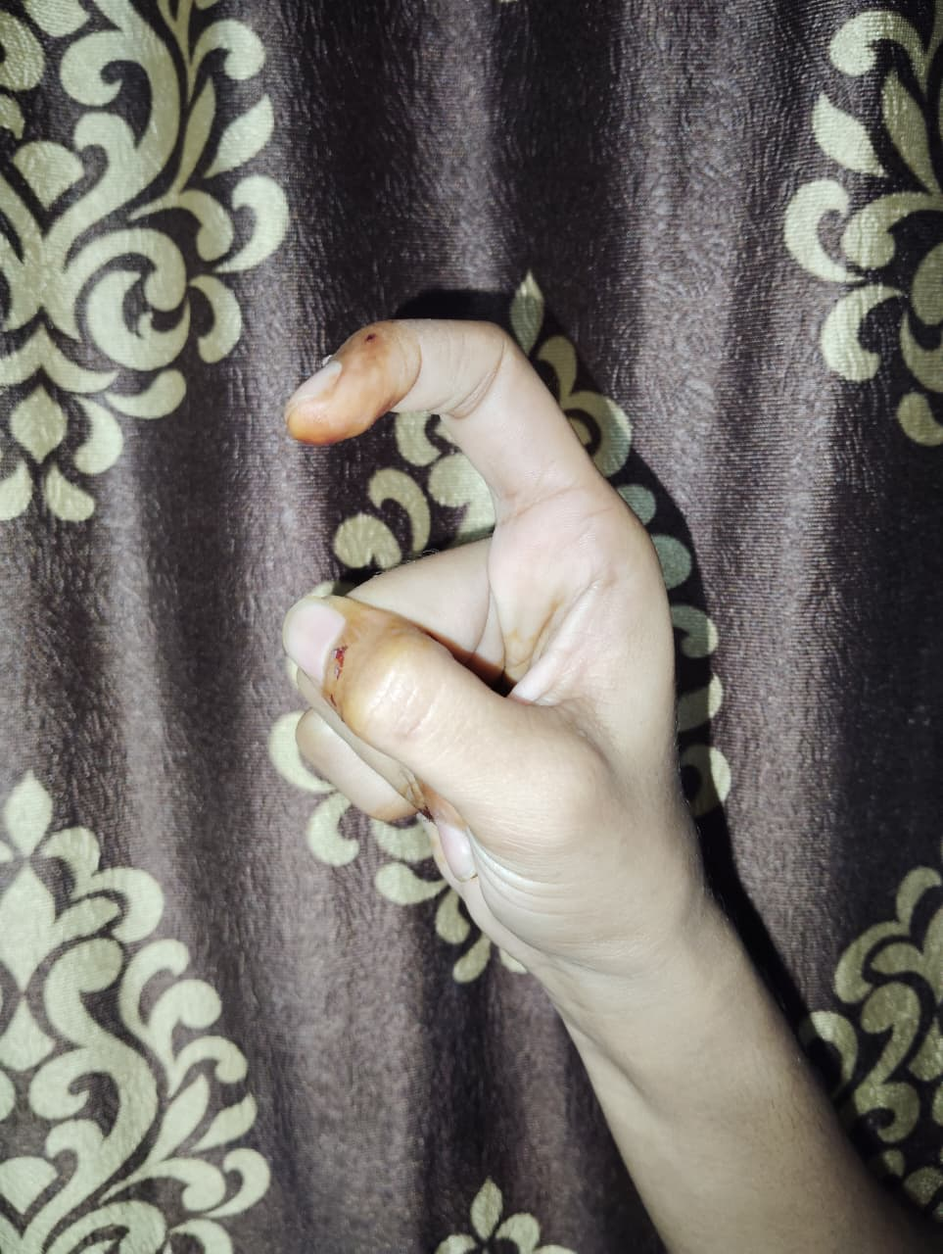X: (284, 314, 698, 986)
